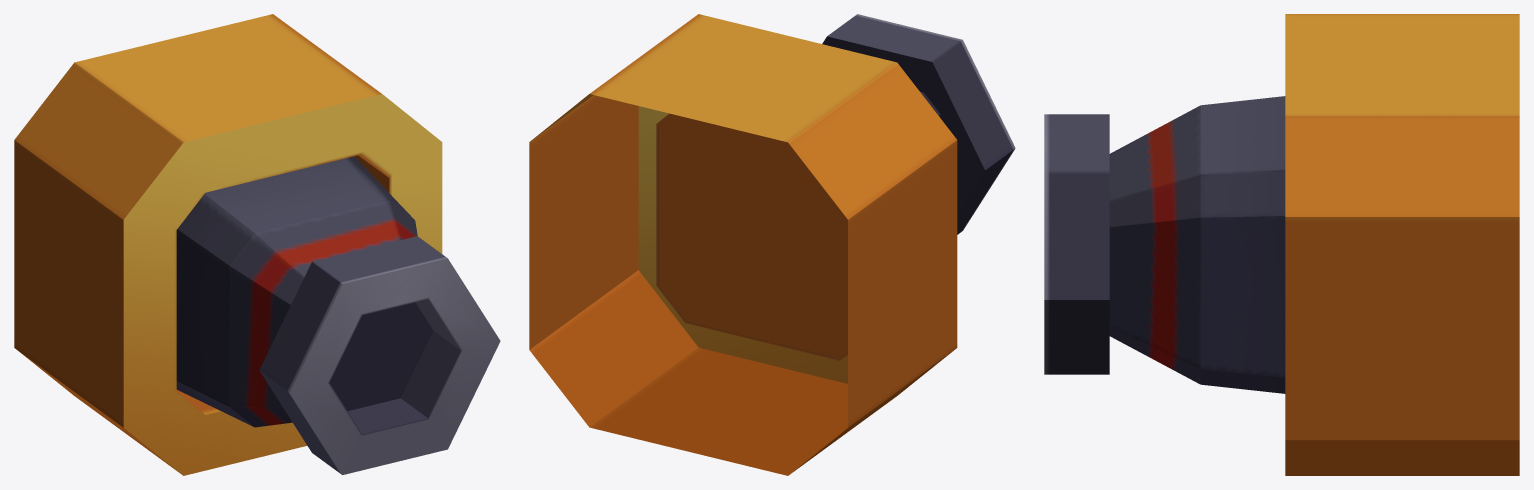
File: Pirate_Ship_We_Artillery_001.FBX
3 renders of one model, left to right at view 1: azimuth 30°, elevation 25°; view 2: azimuth 150°, elevation 25°; view 3: azimuth 270°, elevation 25°, orthographic. The views are drawn at different scales.
Parts seen in each view (by area): view 1: Pirate_Ship_We_Artillery_001; view 2: Pirate_Ship_We_Artillery_001; view 3: Pirate_Ship_We_Artillery_001.
Part boxes in pixels (left/top/right/bottom): Pirate_Ship_We_Artillery_001: left=14, top=14, right=500, bottom=475; Pirate_Ship_We_Artillery_001: left=529, top=14, right=1015, bottom=475; Pirate_Ship_We_Artillery_001: left=1044, top=14, right=1519, bottom=475.
Bounding box in the file's own units: 3.07 × 3.07 × 3.7.
